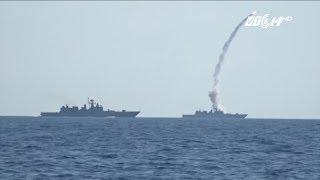MIL_Ship: (39, 98, 140, 118), (181, 105, 251, 121)
